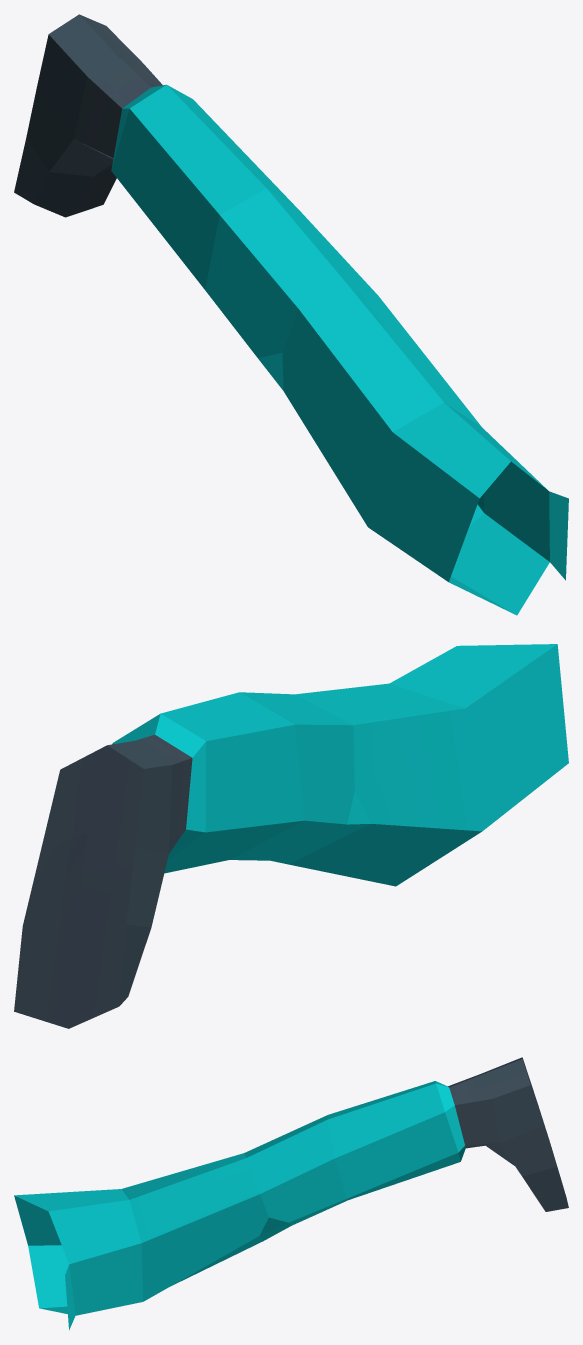
File: 252_enemy_cop_002.gltf
3 renders of one model, top to bottom at view 1: azimuth 30°, elevation 25°; view 2: azimuth 150°, elevation 25°; view 3: azimuth 270°, elevation 25°, orthographic. The views are drawn at different scales.
Visible parts, largest first — view 1: enemy_cop_002; view 2: enemy_cop_002; view 3: enemy_cop_002.
Boxes of the visible parts, x1,y1,x2,y2 form: enemy_cop_002: (14,14,568,615); enemy_cop_002: (14,644,568,1028); enemy_cop_002: (14,1057,568,1330).
Bounding box in the file's own units: 0.4544 × 0.8483 × 1.87.
Materials: 1 (1 with a texture image).
